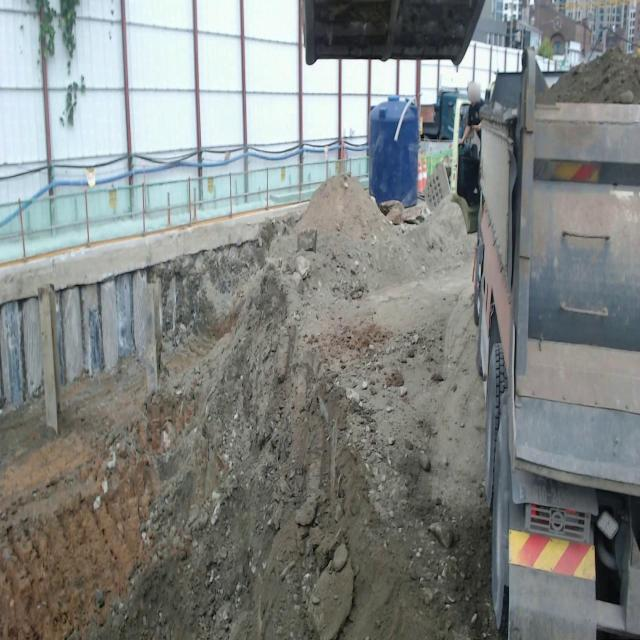cement: (0, 203, 307, 304)
red-sand: (0, 177, 499, 639)
